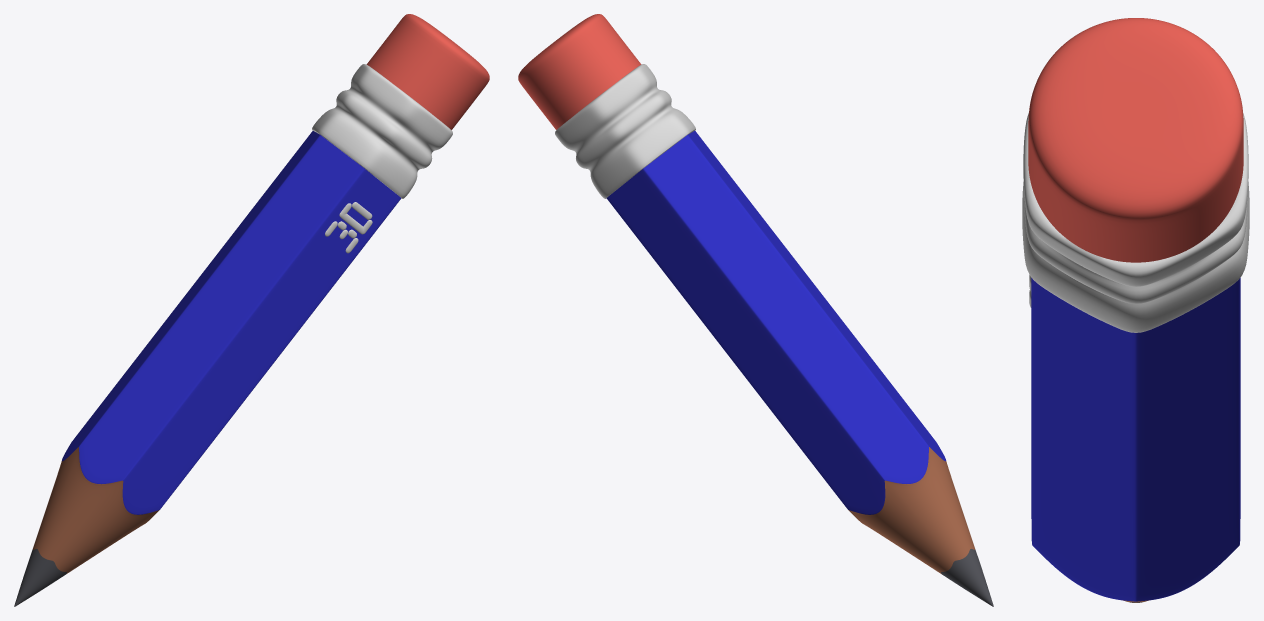
Rendered from pencil.fbx.
3 renders of one model, left to right at view 1: azimuth 30°, elevation 25°; view 2: azimuth 150°, elevation 25°; view 3: azimuth 270°, elevation 25°, orthographic. The views are drawn at different scales.
Visible parts, largest first — view 1: Pencil; view 2: Pencil; view 3: Pencil.
Part boxes in pixels (x1,y1,x2,y2): Pencil: (14, 14, 489, 606); Pencil: (518, 14, 993, 606); Pencil: (1022, 18, 1249, 602).
Size of the model in its own units: 182 by 182 by 38.4.
